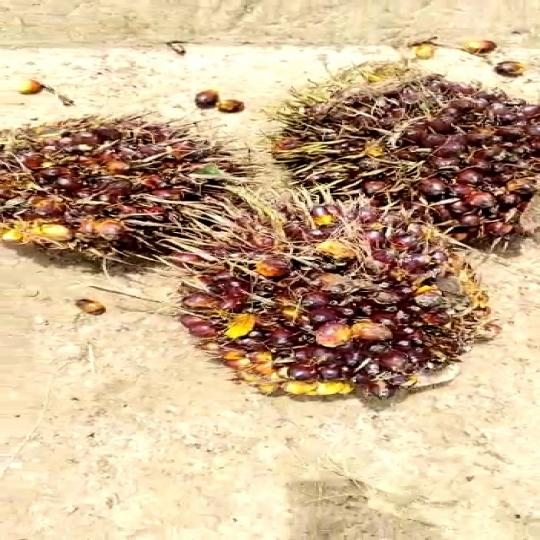masak: (139, 186, 499, 410), (252, 63, 540, 264), (0, 93, 252, 277)
